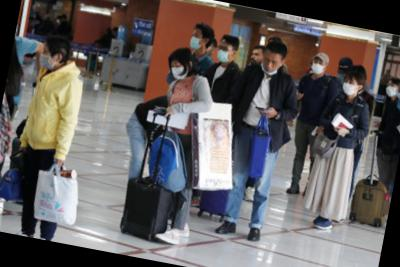mask_weared_incorrect: (261, 55, 281, 79), (396, 80, 400, 102)
with_mask: (37, 47, 56, 70), (170, 60, 189, 79), (216, 42, 233, 63), (342, 77, 359, 98), (190, 30, 205, 51), (311, 58, 327, 76), (385, 81, 399, 99)
without_mask: (250, 49, 264, 68)
